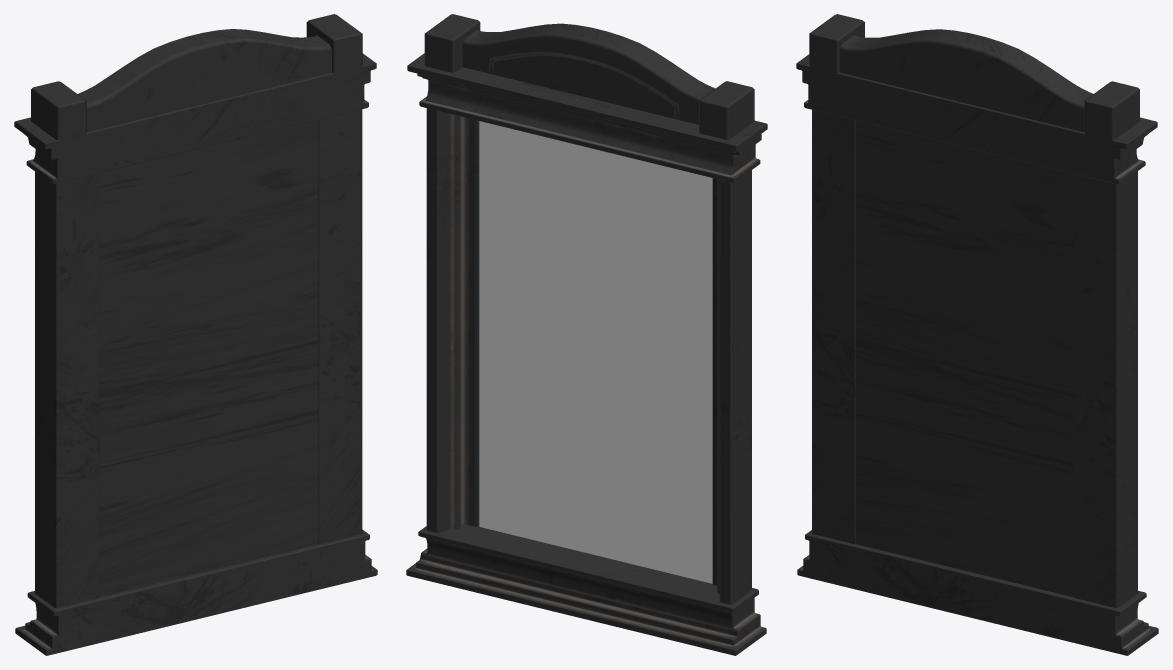
Rendered from MenuSign_adapted.glb.
3 renders of one model, left to right at view 1: azimuth 30°, elevation 25°; view 2: azimuth 150°, elevation 25°; view 3: azimuth 330°, elevation 25°, orthographic.
Bounding box in the file's own units: 0.4083 × 0.668 × 0.0663.
2 materials, 1 textured.
